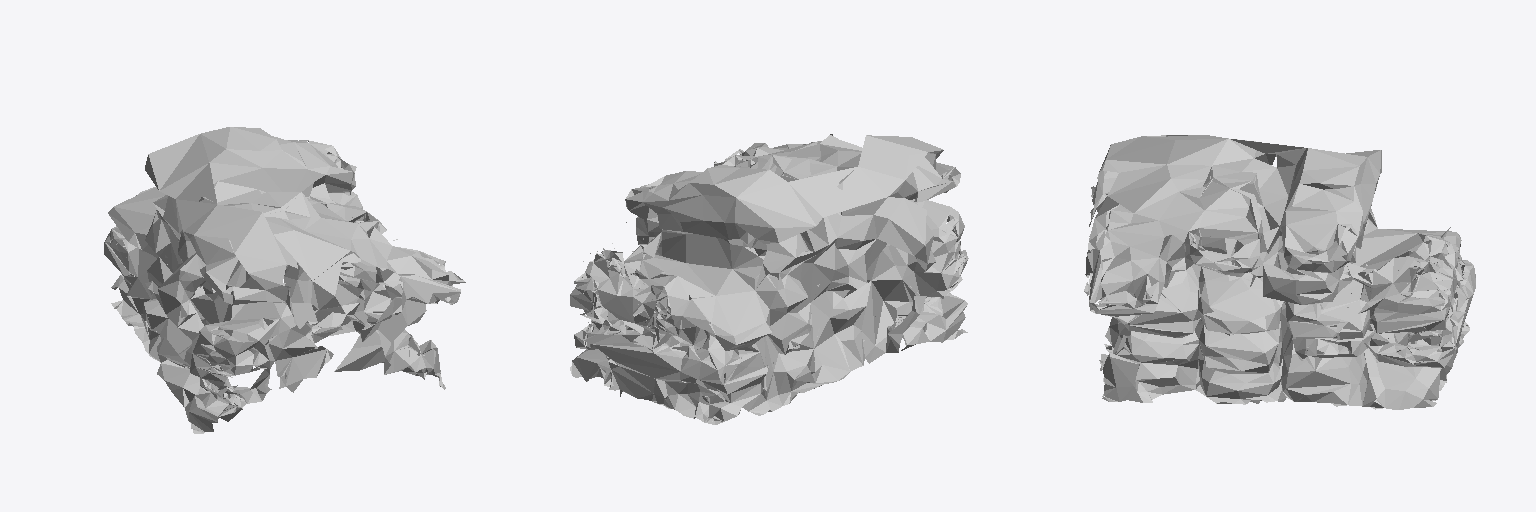
Rendered from CarStacksLowPoly.obj.
The picture shows the model from 3 angles: view 1: azimuth 30°, elevation 25°; view 2: azimuth 150°, elevation 25°; view 3: azimuth 270°, elevation 25°; orthographic projection.
Visible parts, largest first — view 1: carwall; view 2: carwall; view 3: carwall.
Boxes of the visible parts, <box> form: carwall: <box>104,127,465,433</box>; carwall: <box>570,134,968,424</box>; carwall: <box>1084,135,1475,409</box>.
Bounding box in the file's own units: 10.3 × 7.5 × 13.29.